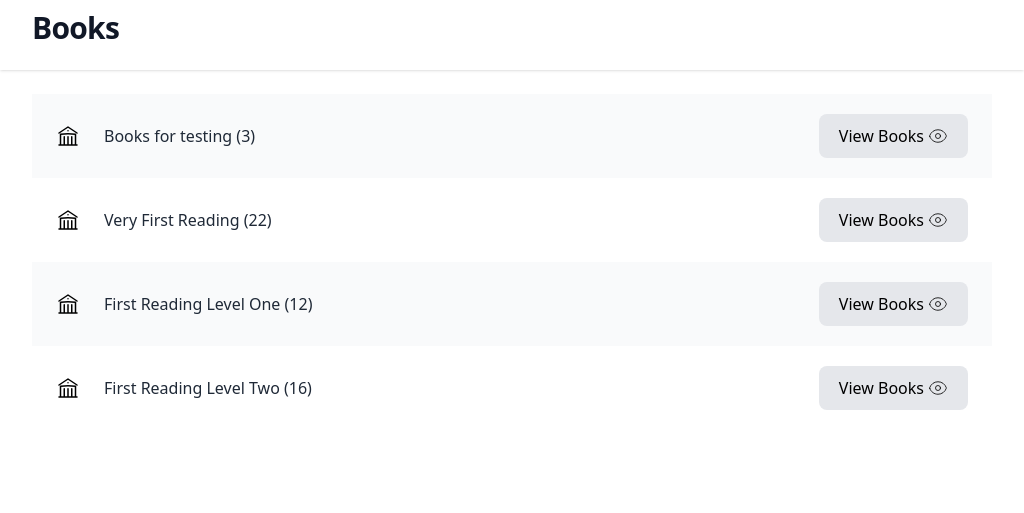
Test case: Books View › opening and closing a collection
The width and height of the screenshot is (1024, 513).
Click the button with test id "collection-button" at point(893, 136), box [819,114,968,158]
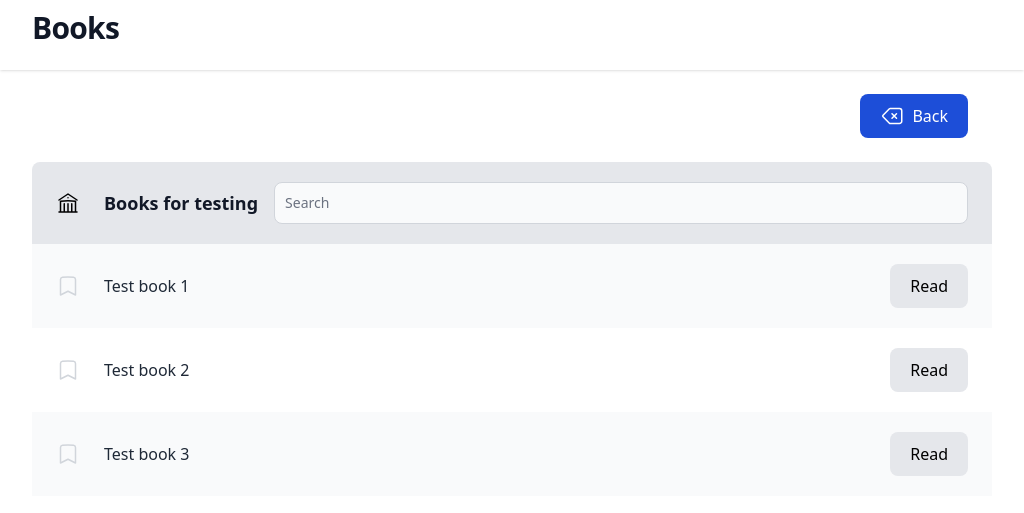
Expected: the element with test id "book-list" is shown
Click the button with test id "back-button" at point(914, 116), box [860,94,968,138]
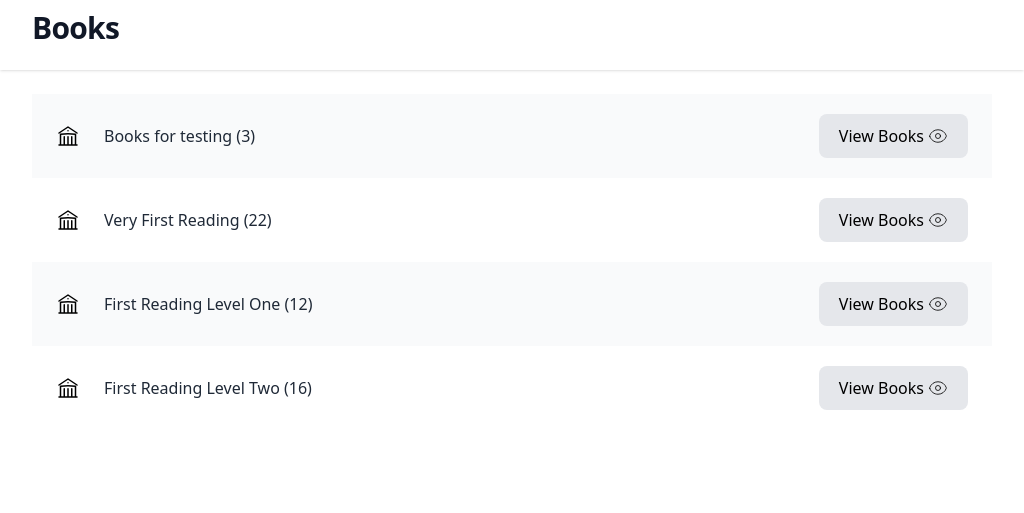
Expected: the element with test id "book-list" is gone
